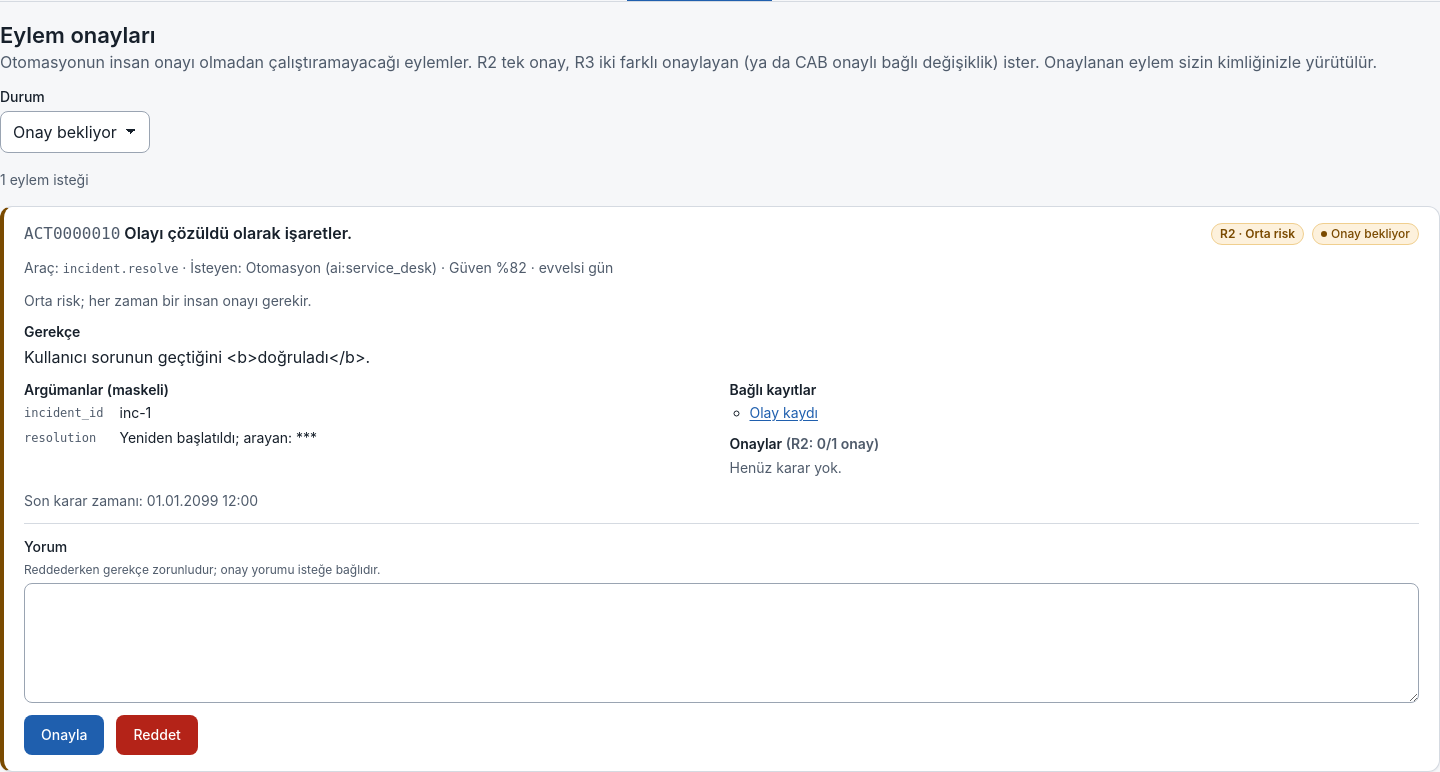
Scenario: /onaylar — Eylem onayları sekmesi › R2 onay: onay diyaloğu "Onayla ve yürüt" → yorumla POST → yürütüldü bildirimi
(page scrolled)
Type "Kontrol ettim" into the text box labelled "Yorum" at coordinates (722, 643), box [24,583,1419,703]
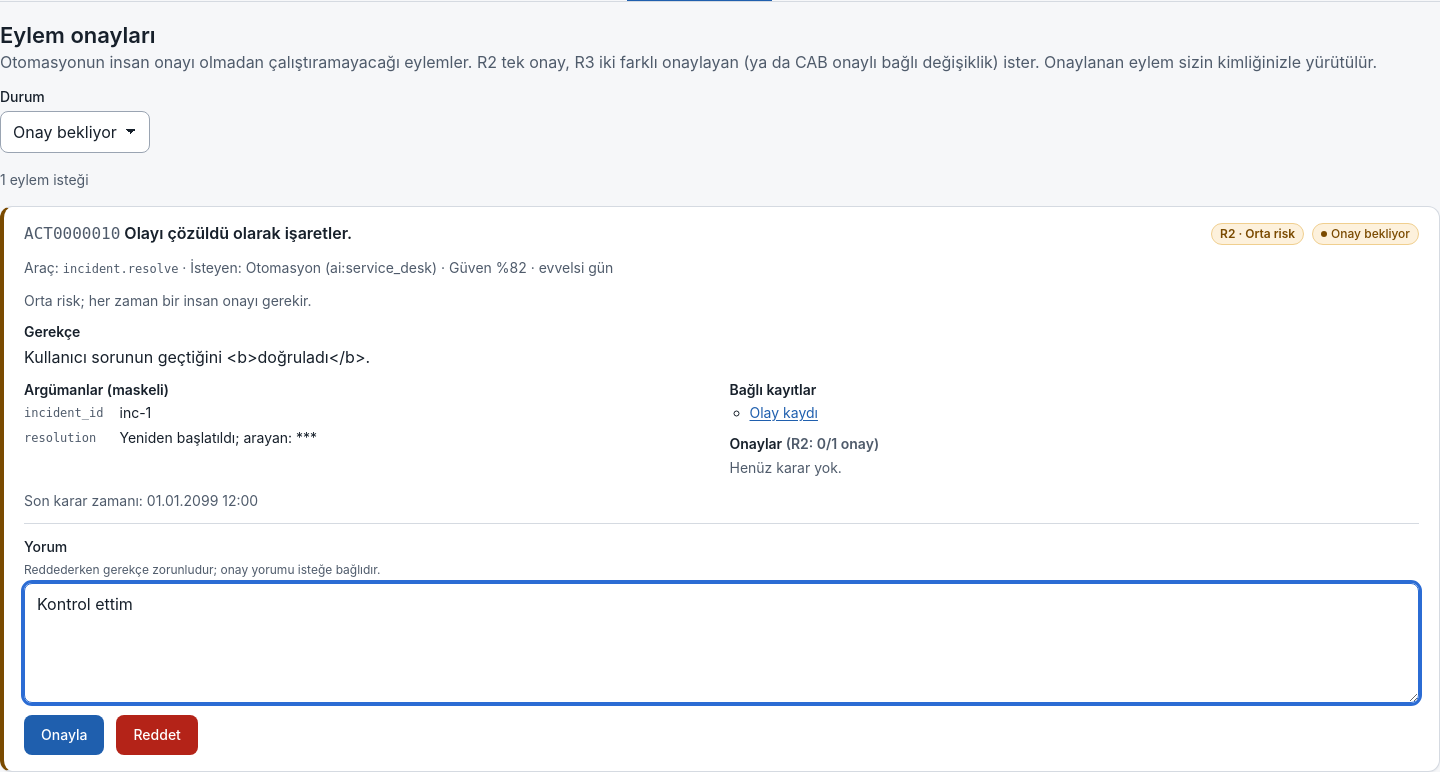
Click the button "Onayla" at coordinates (64, 735), box [24,715,104,755]
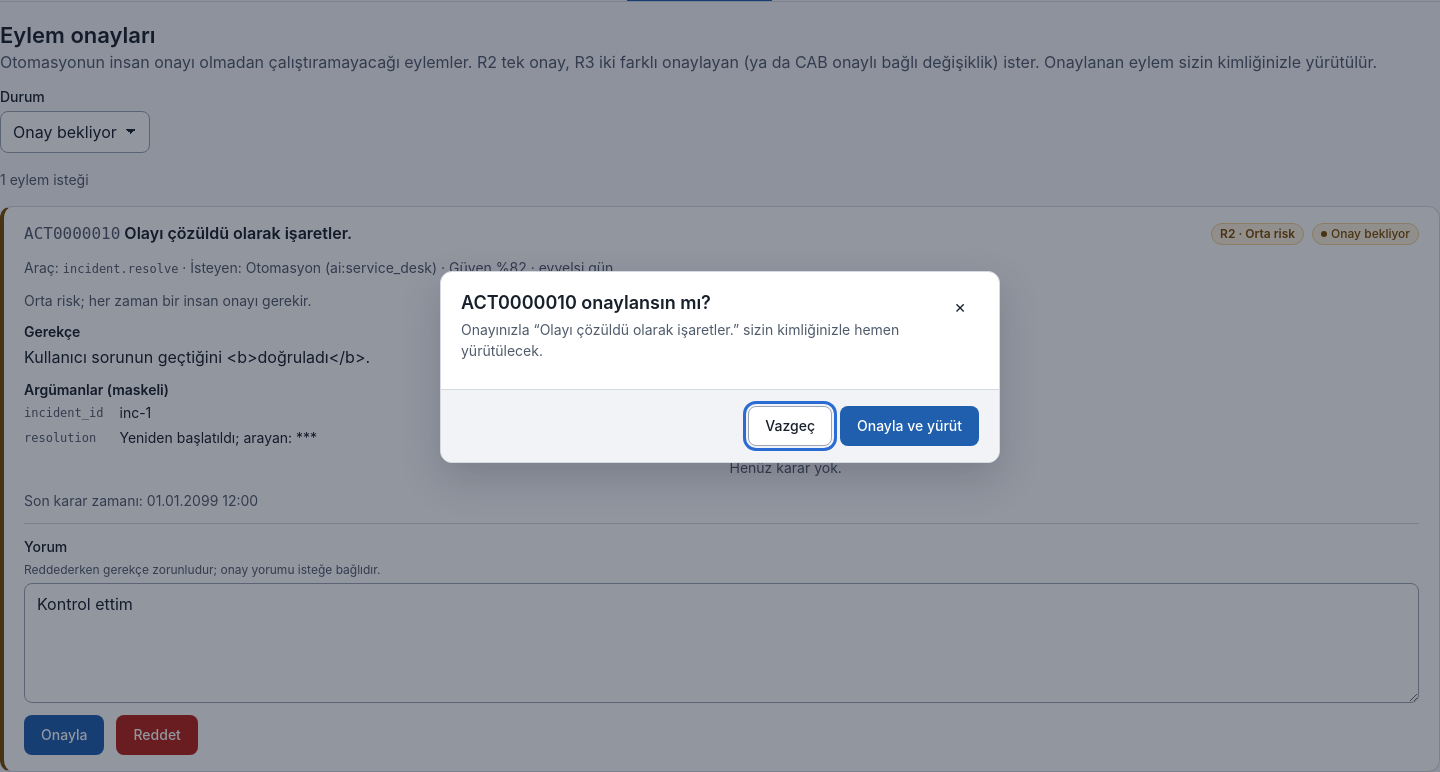
Check: the dialog shows "sizin kimliğinizle hemen yürütülecek", box [461,321,899,359]
Click the button "Onayla ve yürüt" at coordinates (910, 426), box [840,406,979,446]
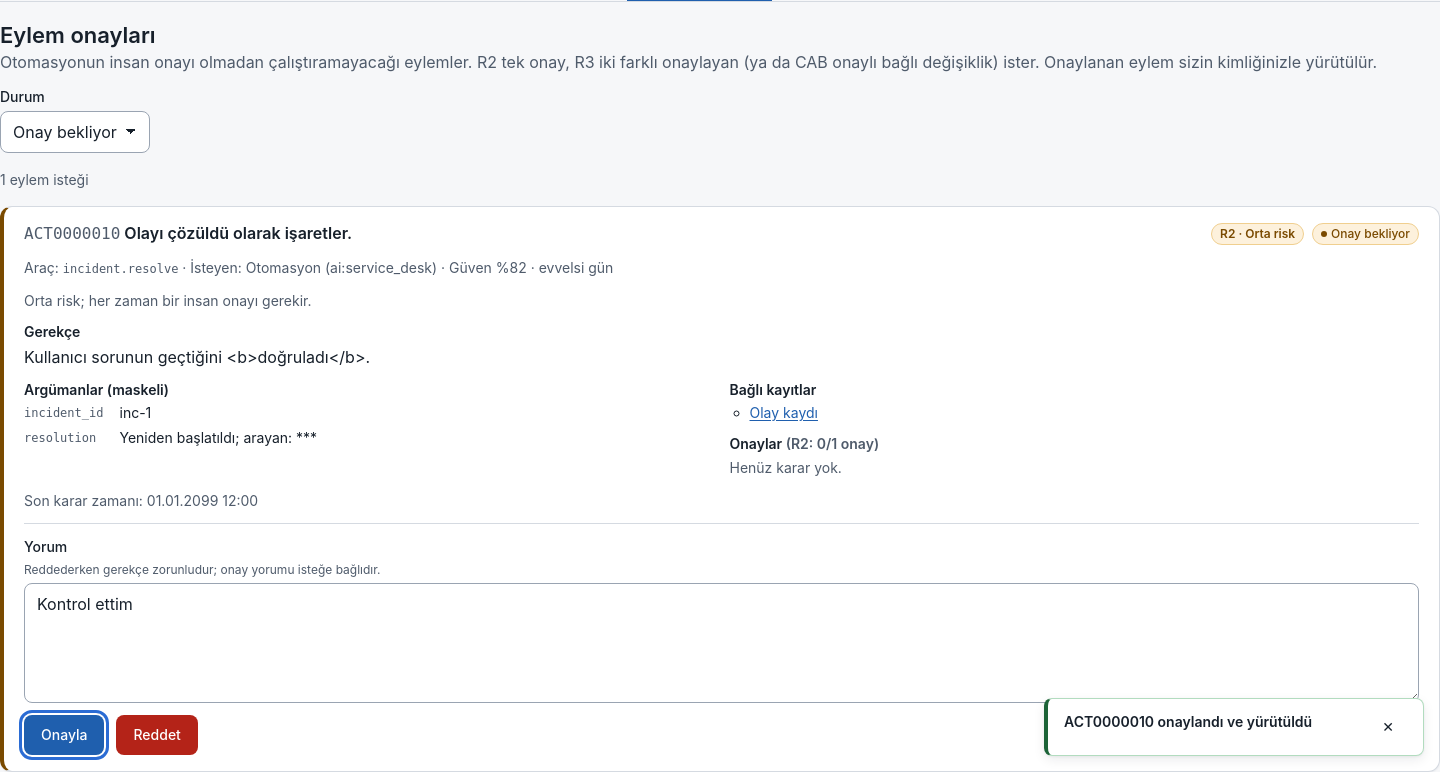
Check: the text "ACT0000010 onaylandı ve yürütüldü" is shown, box [1064,713,1312,730]
